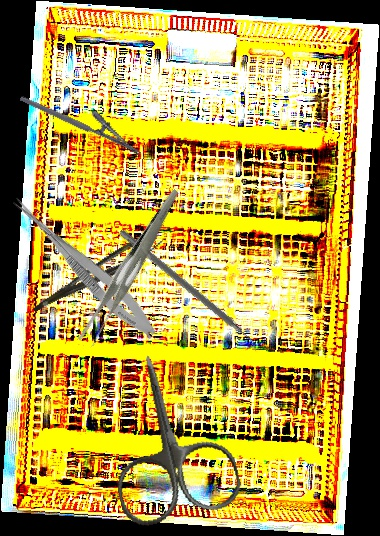Dressing Forceps: (45, 188, 218, 351)
Iris Scissors: (89, 341, 246, 531)
Micro Scissor: (3, 191, 164, 345)
Needle Holder: (19, 79, 149, 157)
Spatula Surgical: (113, 228, 265, 355)
Tissue Forceps: (25, 229, 168, 312)
